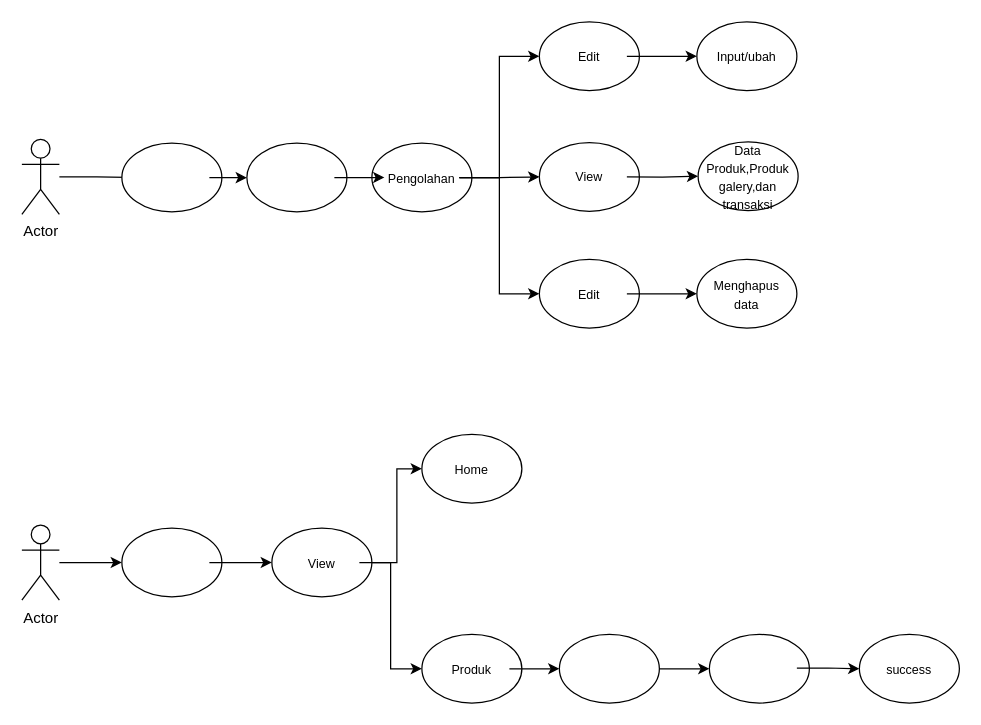
The diagram is 981 pixels wide and 725 high, and some of its shapes have lost their labels. Each missing label, with the centre of its shape:
Admin: the point at 171,177
checkout dengan isi form: the point at 758,668
detail produk: the point at 608,668
Login: the point at 296,177
User: the point at 171,562
